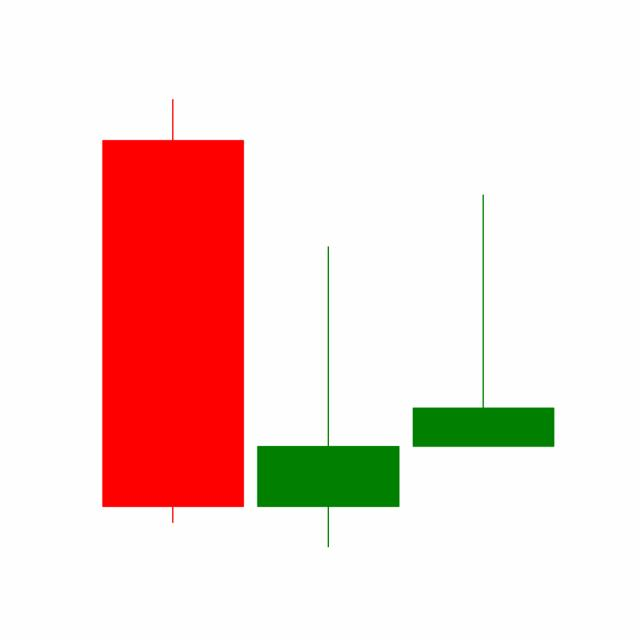Gravestone Doji: (405, 190, 561, 448)
